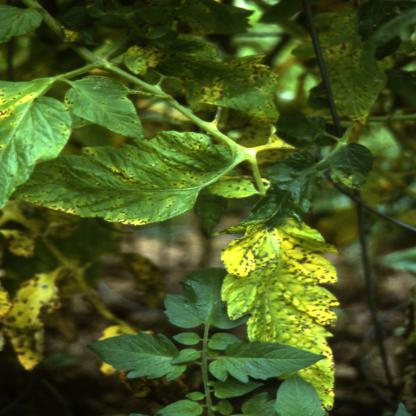tomato septoria leaf spot: (14, 121, 261, 233), (215, 194, 342, 408), (53, 62, 159, 144)
